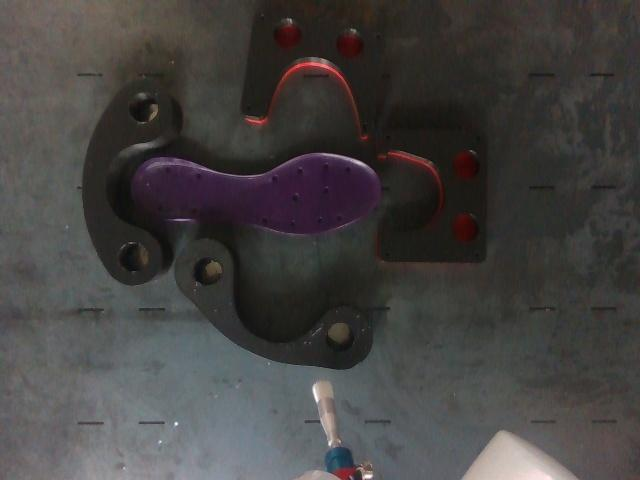shoes: (131, 153, 380, 234)
